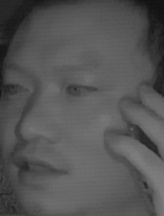eye: (66, 79, 96, 100), (2, 77, 30, 99)
mouth: (10, 149, 70, 189)
